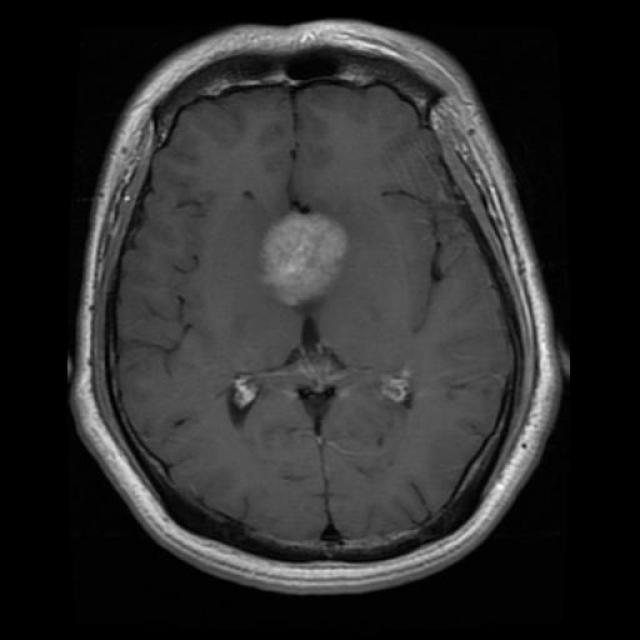Brain-Tumor: (249, 199, 361, 317)
